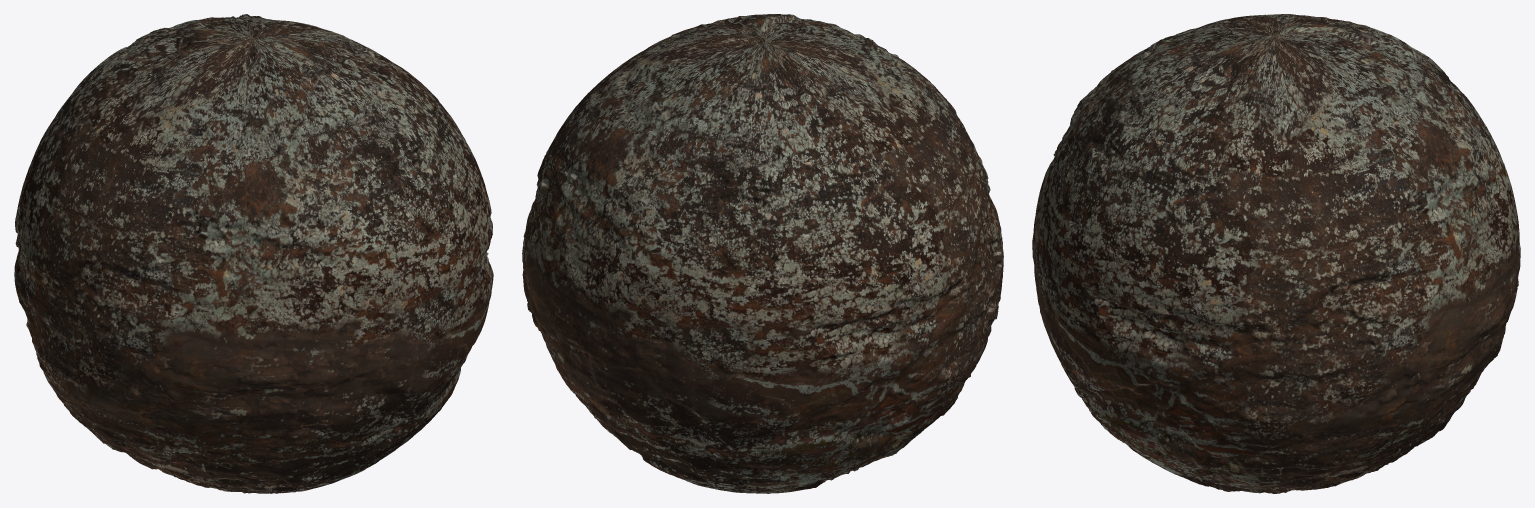
The model's file is lichen_rock_1k.gltf.
3 renders of one model, left to right at view 1: azimuth 30°, elevation 25°; view 2: azimuth 150°, elevation 25°; view 3: azimuth 270°, elevation 25°, orthographic.
Parts seen in each view (by area): view 1: sphere_gltf; view 2: sphere_gltf; view 3: sphere_gltf.
Boxes of the visible parts, x1=… form: sphere_gltf: x1=14, y1=14, x2=493, y2=493; sphere_gltf: x1=522, y1=14, x2=1003, y2=493; sphere_gltf: x1=1032, y1=14, x2=1520, y2=493.
Size of the model in its own units: 2 by 2.05 by 2.03.
